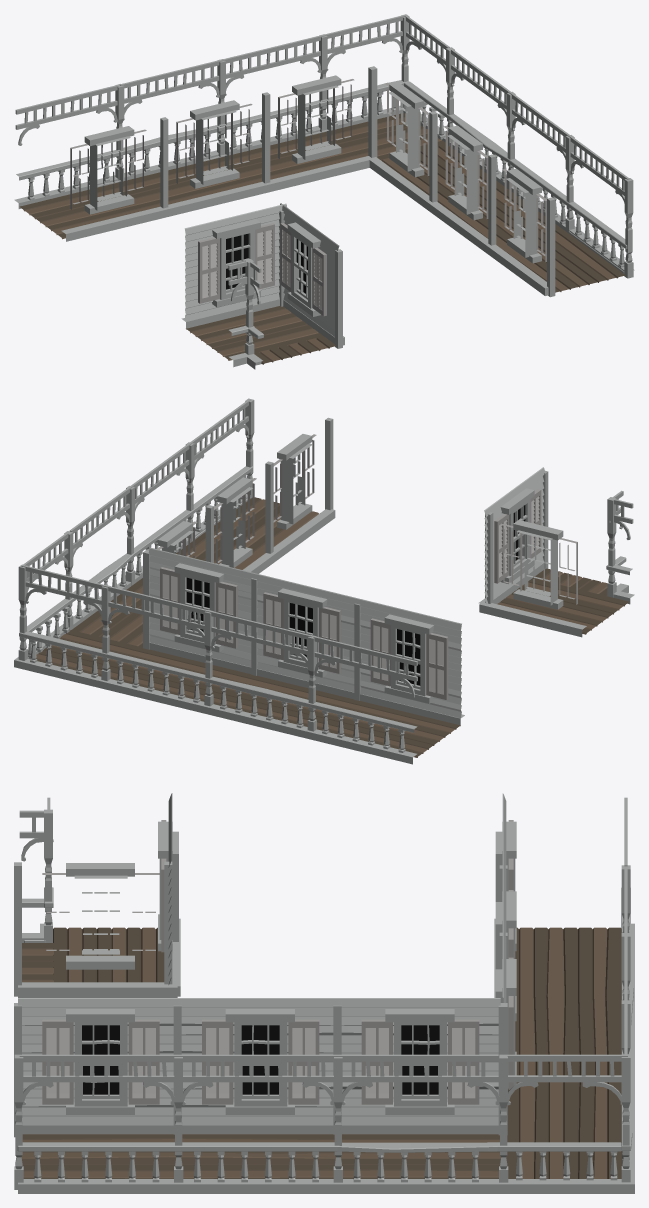
File: SM_Bld_Mansion_Corner_02.glb
The picture shows the model from 3 angles, top to bottom: view 1: azimuth 30°, elevation 25°; view 2: azimuth 150°, elevation 25°; view 3: azimuth 270°, elevation 25°; orthographic projection. The views are drawn at different scales.
Visible parts, largest first — view 1: SM_Bld_Mansion_Corner_02; view 2: SM_Bld_Mansion_Corner_02; view 3: SM_Bld_Mansion_Corner_02.
Part boxes in pixels (bbox=[...]): SM_Bld_Mansion_Corner_02: bbox=[14, 14, 634, 369]; SM_Bld_Mansion_Corner_02: bbox=[14, 398, 634, 764]; SM_Bld_Mansion_Corner_02: bbox=[14, 793, 634, 1193].
Size of the model in its own units: 0.1162 by 0.029 by 0.1167.
